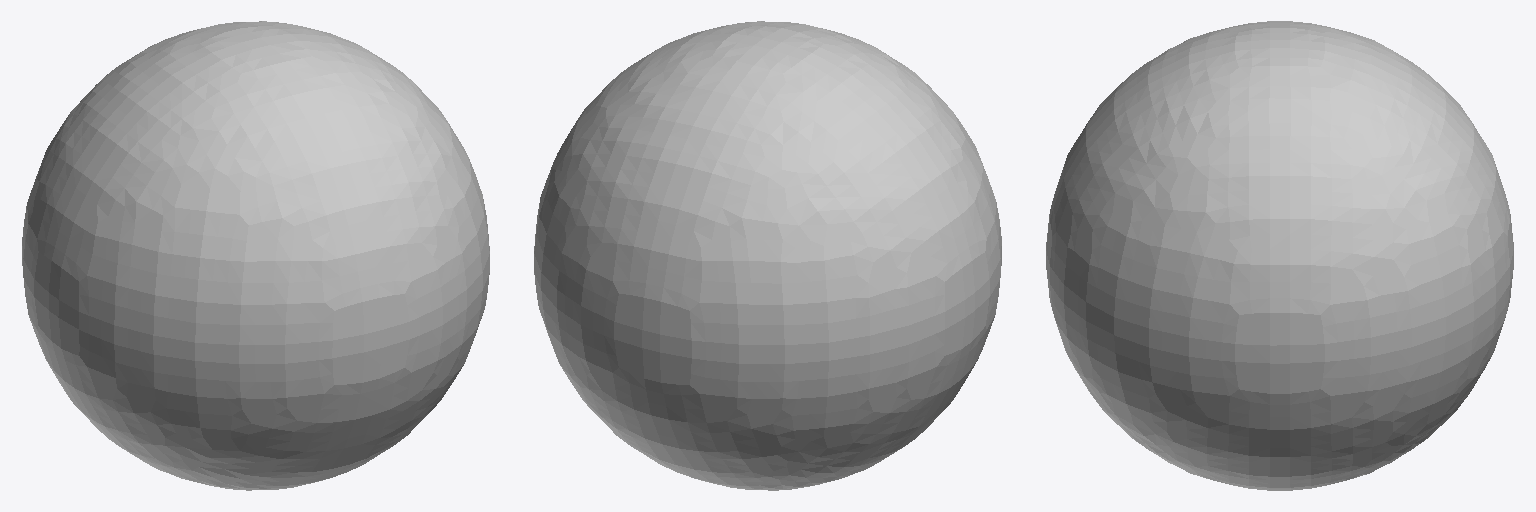
The picture shows the model from 3 angles: view 1: azimuth 30°, elevation 25°; view 2: azimuth 150°, elevation 25°; view 3: azimuth 270°, elevation 25°; orthographic projection.
Visible parts, largest first — view 1: 球体; view 2: 球体; view 3: 球体.
Part boxes in pixels (x1,y1,x2,y2): 球体: (22,21,489,490); 球体: (534,21,1001,490); 球体: (1046,21,1513,490).
Size of the model in its own units: 1.98 by 1.99 by 1.98.